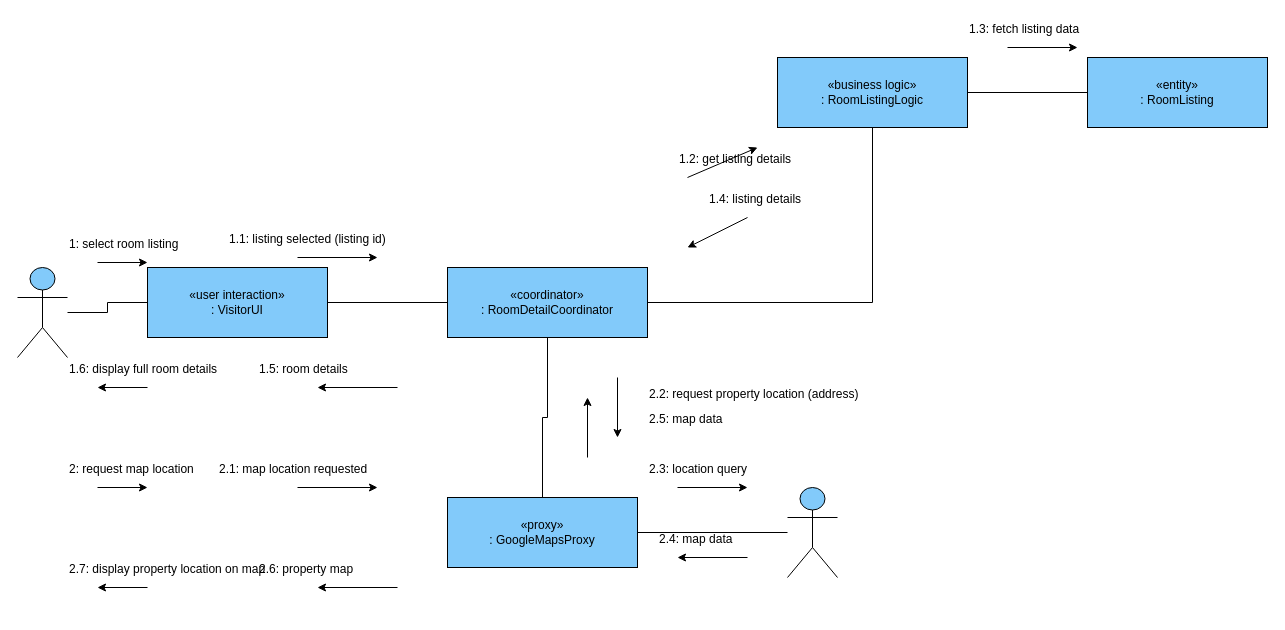
Image size: 1285x630. Some labels were removed from this diagram. The shapes that lost their labels are listed below. From the top down, each one's centre as x and y in pixels, then its label:
At point 42,312: "Visitor".
At point 812,532: "Google Maps".
